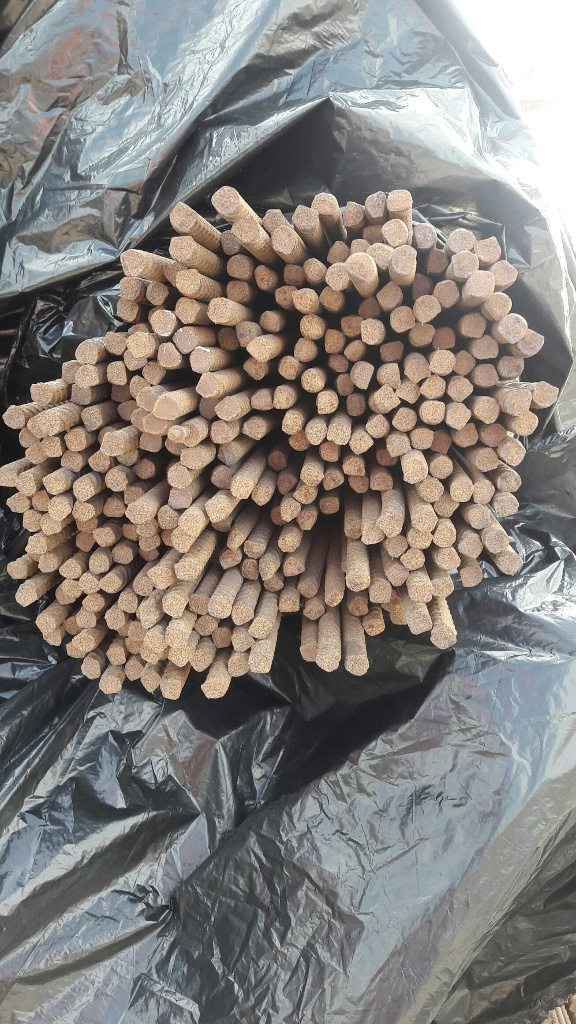dipstick: (345, 253, 376, 283), (496, 314, 527, 342), (168, 202, 194, 233), (118, 248, 145, 276), (211, 186, 239, 213), (413, 295, 440, 323), (373, 384, 400, 412), (473, 395, 500, 423), (435, 279, 461, 308), (503, 390, 532, 416), (174, 296, 199, 326), (187, 345, 212, 375), (486, 292, 511, 322), (234, 319, 258, 350), (476, 236, 503, 263), (419, 400, 446, 427), (313, 646, 341, 672), (270, 226, 296, 254), (448, 227, 476, 253), (511, 411, 539, 437), (390, 246, 415, 275), (168, 235, 195, 261), (156, 341, 183, 367), (366, 243, 392, 270), (469, 271, 496, 297), (389, 306, 416, 332), (483, 526, 509, 553), (451, 251, 479, 276), (492, 260, 517, 288), (472, 335, 500, 360), (446, 376, 474, 401), (180, 508, 206, 534), (291, 205, 317, 231), (376, 282, 402, 308), (401, 458, 427, 484), (151, 309, 176, 336), (375, 363, 402, 388), (28, 414, 57, 437), (350, 362, 373, 391), (74, 339, 99, 365), (246, 336, 271, 362), (292, 287, 317, 313), (299, 314, 325, 339), (366, 412, 391, 438), (461, 313, 487, 338), (518, 330, 544, 355), (446, 403, 472, 428), (459, 533, 484, 559), (360, 519, 385, 545), (407, 610, 433, 635), (173, 326, 197, 353), (212, 397, 239, 421), (364, 191, 388, 218), (534, 381, 558, 408), (431, 520, 455, 547), (207, 297, 230, 325), (390, 408, 418, 431), (420, 377, 449, 399), (201, 676, 226, 701), (451, 350, 476, 375), (500, 440, 525, 465), (448, 478, 473, 503), (459, 563, 484, 588), (407, 526, 432, 551), (225, 254, 249, 280), (233, 218, 259, 242), (153, 394, 177, 420), (166, 465, 192, 489), (327, 420, 351, 446), (383, 219, 407, 245), (348, 430, 374, 454), (386, 433, 412, 457), (360, 318, 383, 345), (432, 493, 459, 516), (73, 364, 101, 386), (473, 365, 501, 387), (6, 493, 35, 514), (145, 281, 169, 306), (142, 414, 167, 438), (48, 497, 73, 521), (319, 286, 343, 311), (358, 295, 383, 319), (410, 322, 435, 346), (404, 356, 429, 380), (475, 447, 500, 471), (432, 624, 456, 649), (214, 325, 237, 351), (170, 529, 196, 552), (385, 189, 411, 212), (273, 283, 296, 309), (412, 273, 435, 299), (498, 355, 524, 378), (454, 423, 480, 446), (472, 480, 495, 506), (410, 579, 433, 605), (143, 360, 165, 387), (379, 341, 406, 363), (430, 428, 452, 455), (342, 200, 363, 228), (168, 426, 197, 446), (174, 269, 198, 293), (257, 310, 281, 334), (241, 357, 265, 381), (159, 677, 183, 701), (413, 223, 437, 247), (293, 338, 317, 362), (430, 351, 454, 375), (396, 378, 420, 402), (411, 427, 435, 451), (104, 361, 127, 386), (69, 382, 92, 407), (339, 314, 362, 339), (428, 454, 451, 479), (127, 332, 149, 358), (276, 355, 298, 381), (311, 192, 337, 214), (191, 645, 212, 672), (209, 596, 230, 623), (115, 298, 139, 321), (226, 280, 249, 304), (104, 331, 127, 355), (29, 383, 52, 407), (315, 392, 339, 415), (301, 369, 325, 392), (262, 208, 286, 231), (283, 262, 306, 286), (433, 326, 457, 349), (481, 424, 505, 447), (494, 494, 517, 518), (421, 478, 444, 502), (413, 509, 436, 533), (251, 389, 273, 414), (102, 432, 124, 457), (3, 405, 25, 430), (230, 476, 252, 501), (303, 258, 325, 283), (166, 488, 192, 509), (121, 350, 148, 370), (211, 467, 234, 490), (164, 594, 187, 617), (327, 241, 350, 264), (117, 277, 141, 299), (41, 471, 63, 495), (181, 447, 205, 469), (216, 442, 238, 466), (249, 651, 271, 675), (345, 655, 369, 677), (499, 550, 521, 574), (377, 513, 399, 537), (437, 548, 459, 572), (196, 372, 217, 397), (81, 407, 102, 432), (88, 450, 109, 475), (248, 481, 269, 506), (329, 266, 350, 291), (497, 471, 522, 492), (385, 534, 406, 559), (253, 264, 272, 291), (272, 387, 294, 410), (105, 469, 127, 492), (63, 429, 86, 451), (209, 421, 232, 443), (148, 566, 170, 589), (369, 581, 391, 604), (345, 394, 367, 417), (468, 503, 490, 526), (432, 576, 454, 599), (188, 592, 209, 616), (324, 328, 344, 353), (400, 550, 425, 570), (162, 260, 181, 286), (139, 434, 165, 453), (126, 503, 152, 522), (282, 496, 301, 522), (428, 248, 447, 274), (72, 479, 94, 501), (242, 418, 264, 440), (249, 617, 271, 639), (302, 599, 324, 621), (289, 430, 311, 452), (102, 498, 125, 519), (323, 469, 344, 492), (327, 352, 350, 373), (21, 509, 41, 533), (118, 591, 138, 615), (279, 531, 299, 555), (281, 410, 301, 434), (342, 457, 366, 477), (220, 229, 239, 254), (141, 669, 160, 694), (369, 473, 394, 492), (206, 500, 228, 521), (40, 514, 61, 536), (227, 655, 249, 676), (232, 629, 253, 651), (282, 557, 304, 578), (319, 441, 340, 463), (346, 339, 368, 360), (61, 450, 81, 473), (92, 527, 115, 547), (87, 554, 110, 574), (15, 586, 38, 606), (52, 584, 75, 604), (98, 574, 121, 594), (168, 647, 191, 667), (230, 605, 253, 625), (300, 466, 323, 486), (306, 422, 326, 445), (363, 224, 386, 244), (198, 395, 217, 419), (25, 535, 49, 554), (346, 573, 370, 592), (81, 593, 106, 611), (137, 603, 158, 624), (211, 628, 232, 649), (122, 484, 142, 506), (42, 438, 62, 460), (16, 473, 36, 495), (73, 632, 95, 652), (174, 561, 196, 581), (335, 373, 355, 395), (128, 375, 147, 398), (277, 471, 296, 494), (75, 609, 98, 628), (81, 656, 100, 679), (163, 627, 186, 646), (107, 383, 131, 401), (374, 450, 399, 467), (25, 443, 46, 463), (195, 615, 215, 636), (111, 545, 133, 564), (73, 501, 95, 520), (242, 540, 264, 559), (347, 475, 369, 494), (387, 564, 406, 586), (257, 556, 275, 579), (298, 508, 316, 531), (37, 553, 57, 573), (80, 573, 100, 593), (133, 576, 153, 596), (164, 437, 183, 458), (134, 460, 155, 479), (19, 428, 40, 447), (59, 559, 80, 578), (158, 506, 176, 528), (241, 558, 259, 580), (298, 642, 316, 664), (60, 360, 77, 383), (116, 399, 133, 422), (1, 466, 18, 489), (74, 516, 97, 533), (98, 677, 121, 694), (124, 658, 141, 681), (267, 450, 286, 470), (121, 522, 140, 542), (61, 578, 81, 597), (106, 647, 126, 666), (105, 608, 124, 628), (296, 485, 316, 504), (74, 532, 95, 550), (7, 562, 28, 580), (220, 550, 241, 568), (298, 579, 319, 597), (366, 615, 384, 636), (136, 520, 159, 536), (280, 593, 299, 612), (349, 597, 368, 616), (143, 632, 164, 649), (138, 534, 160, 550), (96, 427, 115, 445), (129, 619, 147, 638), (141, 644, 159, 663), (265, 574, 283, 593), (33, 491, 50, 511), (35, 615, 55, 632), (227, 530, 244, 550), (318, 497, 338, 514), (41, 630, 62, 646), (385, 591, 401, 612), (64, 617, 82, 635), (118, 448, 137, 465), (269, 506, 286, 525), (350, 238, 369, 255), (126, 323, 150, 336), (131, 407, 144, 431), (346, 521, 363, 539), (326, 587, 342, 606), (159, 528, 174, 548), (65, 643, 85, 658), (211, 518, 232, 532), (393, 608, 409, 626), (137, 548, 159, 561), (144, 306, 163, 321), (125, 638, 141, 655), (119, 620, 133, 637)
